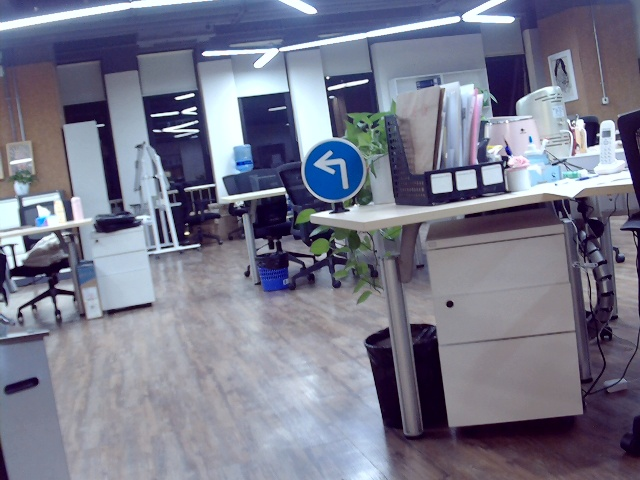turn_left: (311, 150, 355, 189)
